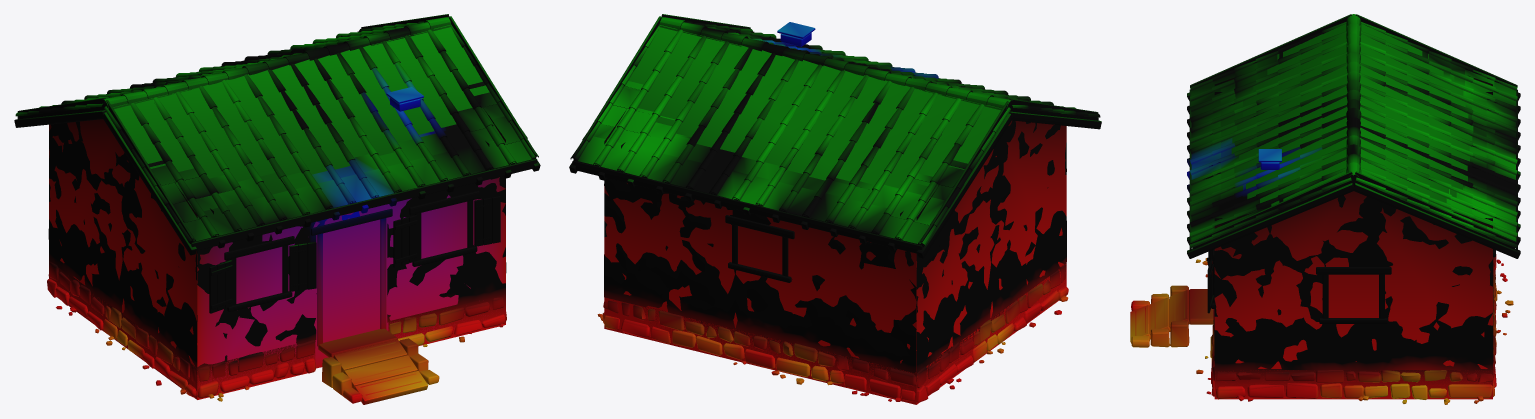
File: valdora_t2_eave.glb
3 renders of one model, left to right at view 1: azimuth 30°, elevation 25°; view 2: azimuth 150°, elevation 25°; view 3: azimuth 270°, elevation 25°, orthographic. The views are drawn at different scales.
Parts seen in each view (by area): view 1: valdora_t2_eave_shell, valdora_t2_eave_far, valdora_t2_eave_detail; view 2: valdora_t2_eave_shell, valdora_t2_eave_far, valdora_t2_eave_detail; view 3: valdora_t2_eave_shell, valdora_t2_eave_far, valdora_t2_eave_detail.
Part boxes in pixels (x1,y1,x2,y2): valdora_t2_eave_shell: [14, 14, 540, 404]; valdora_t2_eave_far: [49, 25, 505, 397]; valdora_t2_eave_detail: [56, 87, 503, 401]; valdora_t2_eave_shell: [569, 14, 1101, 404]; valdora_t2_eave_far: [604, 25, 1066, 401]; valdora_t2_eave_detail: [597, 22, 1068, 401]; valdora_t2_eave_shell: [1130, 14, 1520, 399]; valdora_t2_eave_far: [1214, 24, 1492, 396]; valdora_t2_eave_detail: [1135, 149, 1513, 404].
Size of the model in its own units: 6.83 by 4.73 by 7.01.
